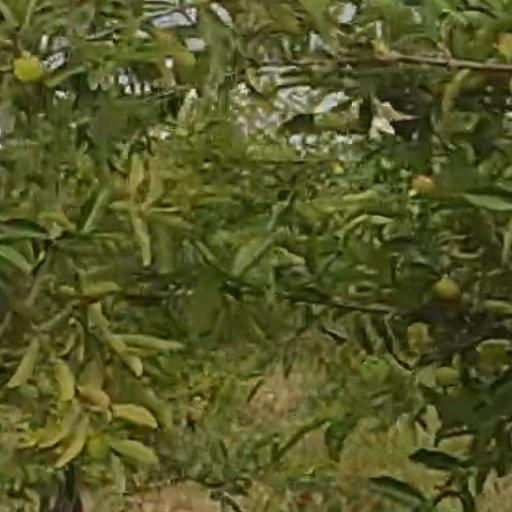acerola: (449, 14, 496, 60), (16, 58, 44, 81)
